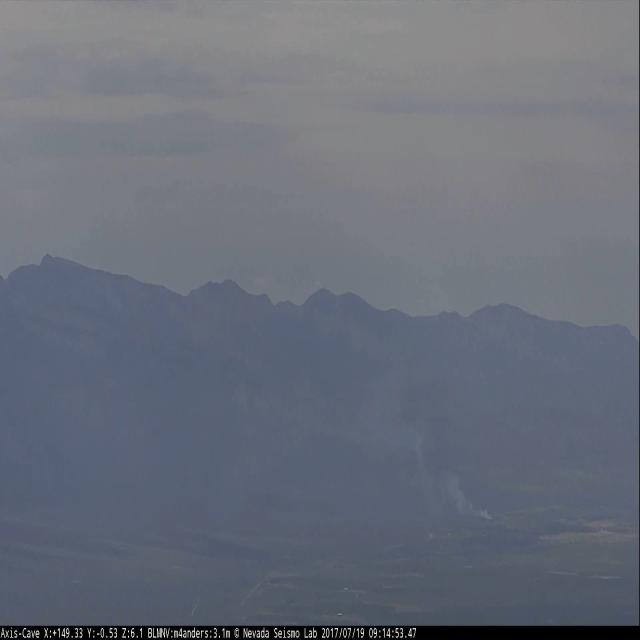smoke: (366, 376, 494, 520)
